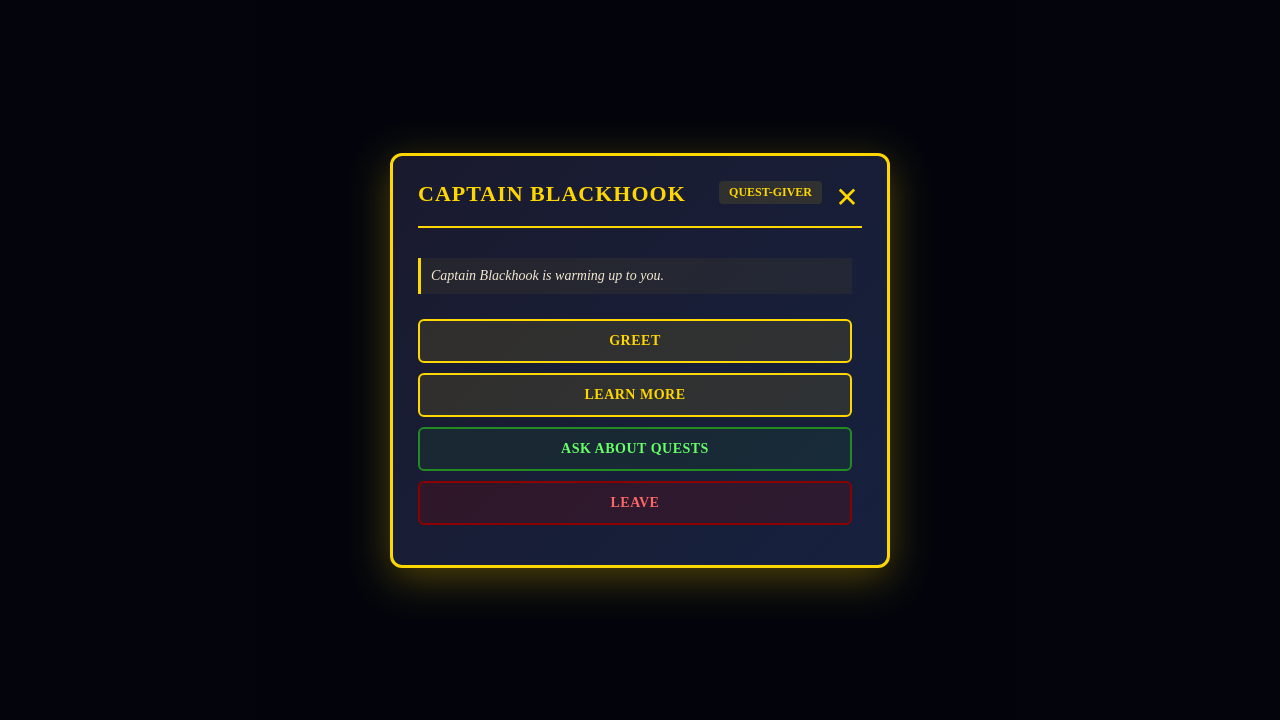
NPC Dialogue Trees › Learn More shows NPC backstory
This screenshot has width=1280, height=720.
Click the button "Learn More": (635, 394) x1=418 y1=372 x2=852 y2=416
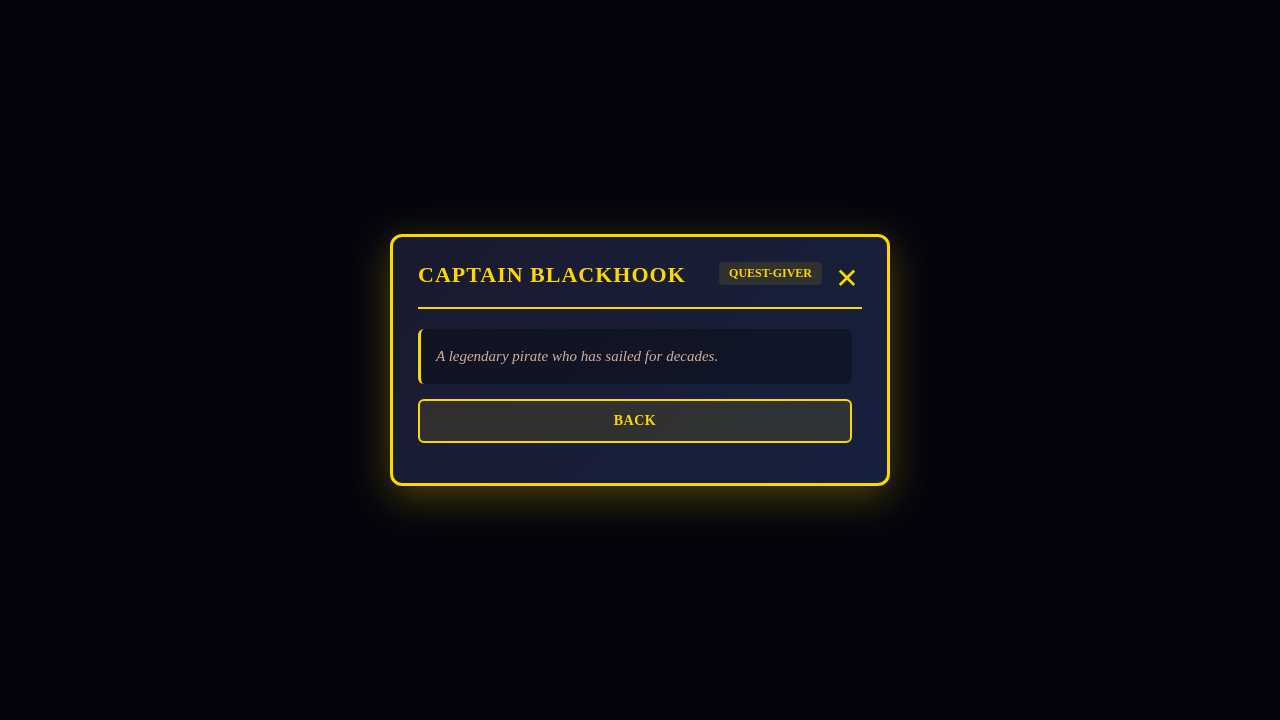
expect the text "A legendary pirate who has sailed for decades." is shown: met, box x1=418 y1=329 x2=852 y2=384
